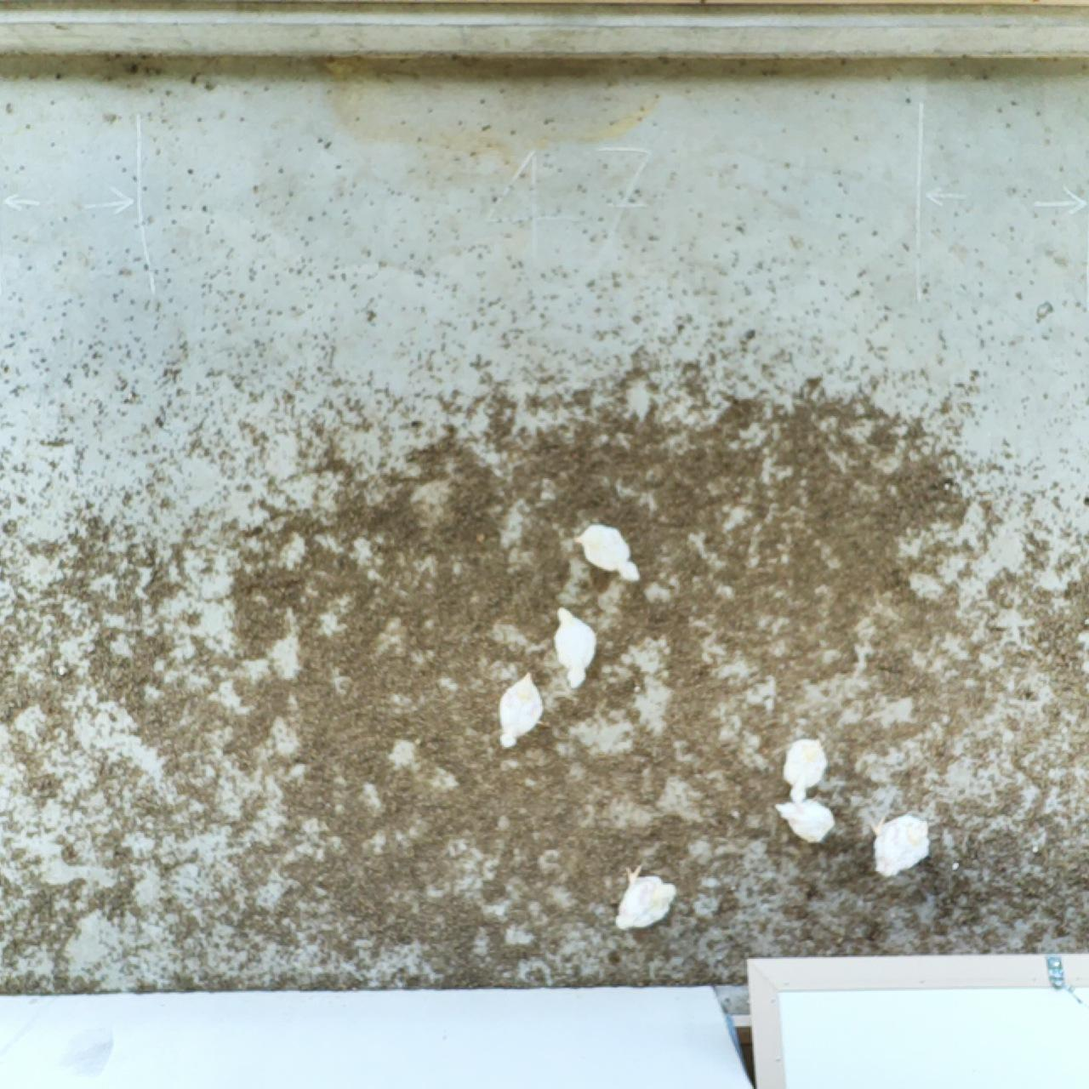chicken: (611, 859, 678, 936), (570, 519, 643, 587), (867, 809, 934, 879), (550, 600, 602, 689), (495, 670, 548, 749), (777, 735, 827, 802), (775, 797, 835, 844)
